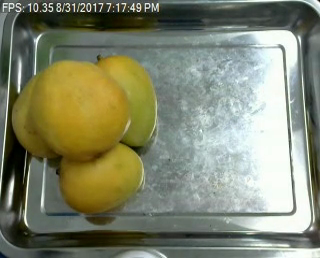Mango: (34, 61, 130, 159), (57, 138, 144, 211), (11, 72, 84, 158), (91, 54, 157, 149)
